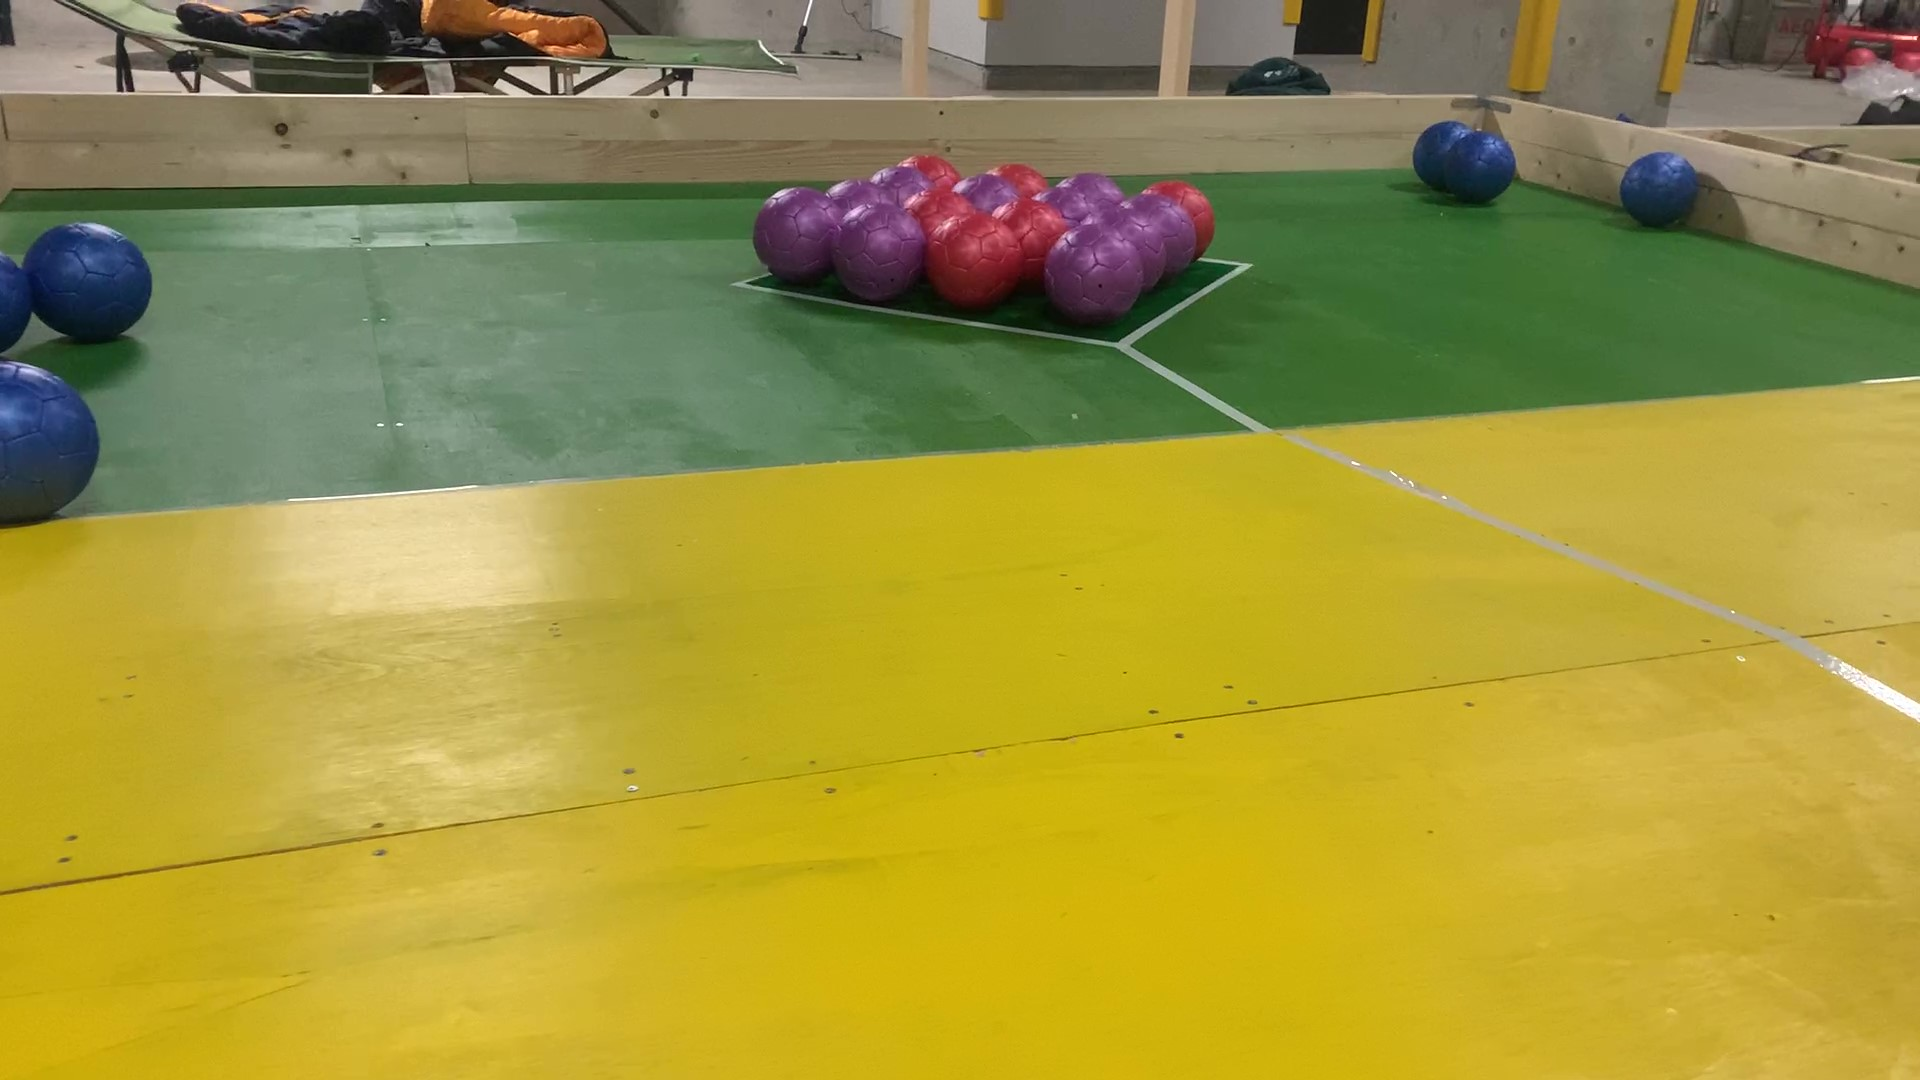blue: (4, 368, 91, 518), (1627, 161, 1692, 222), (1455, 138, 1511, 199), (4, 245, 24, 345), (1422, 128, 1452, 185)
purple: (36, 229, 146, 318), (757, 194, 824, 266), (848, 212, 905, 293), (1065, 245, 1122, 310), (1129, 214, 1158, 280), (828, 177, 881, 208), (1162, 206, 1187, 264), (1054, 190, 1101, 216), (880, 166, 918, 194), (961, 177, 1006, 198), (1071, 170, 1117, 187), (927, 154, 955, 182)
red: (932, 222, 1010, 299), (1192, 179, 1216, 264), (910, 195, 972, 219), (1001, 162, 1044, 195), (1018, 208, 1054, 244)
